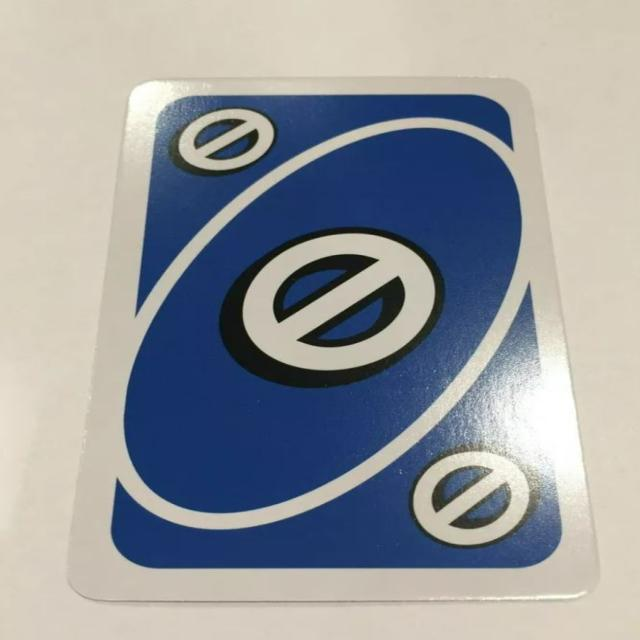Blue_Card: (106, 89, 576, 573)
Skip: (170, 104, 281, 179)
